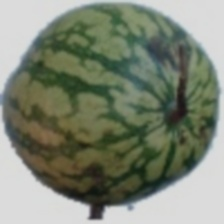watermelon: (35, 43, 217, 190)
